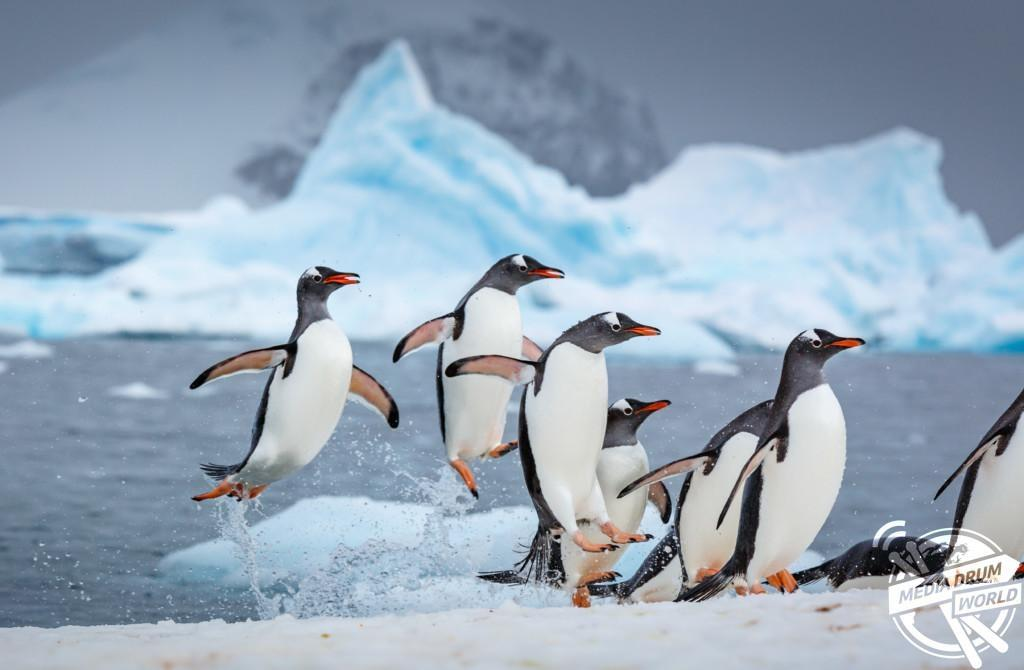Penguin: (446, 312, 660, 552), (678, 328, 864, 603), (190, 266, 399, 501), (392, 254, 565, 500), (620, 400, 772, 590), (915, 390, 1022, 587), (479, 527, 628, 609), (597, 398, 672, 532), (790, 532, 947, 592), (591, 528, 683, 606), (579, 521, 611, 544)
